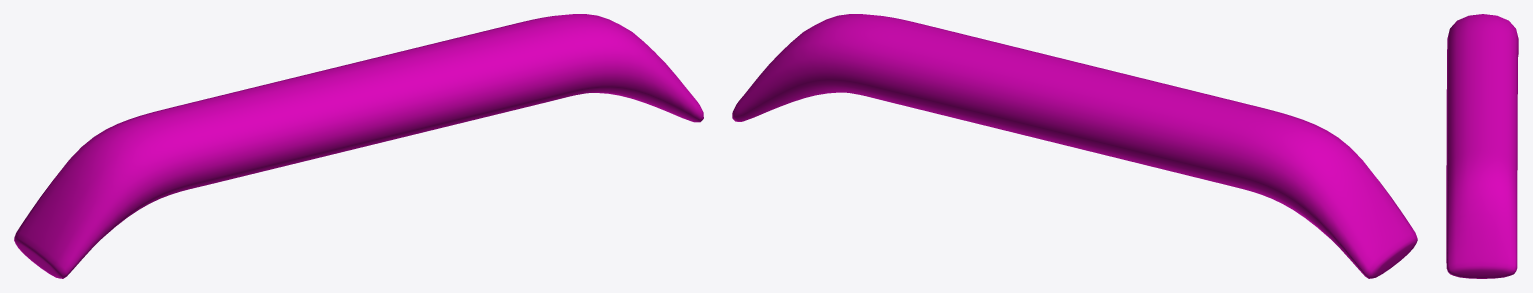
Rendered from uniceja2.glb.
3 renders of one model, left to right at view 1: azimuth 30°, elevation 25°; view 2: azimuth 150°, elevation 25°; view 3: azimuth 270°, elevation 25°, orthographic. The views are drawn at different scales.
Visible parts, largest first — view 1: Cube; view 2: Cube; view 3: Cube.
Part boxes in pixels (box(x1,y1,x2,y2)): Cube: box(14, 14, 703, 278); Cube: box(732, 14, 1417, 278); Cube: box(1446, 14, 1518, 278).
Size of the model in its own units: 1.36 by 0.2414 by 0.189.
